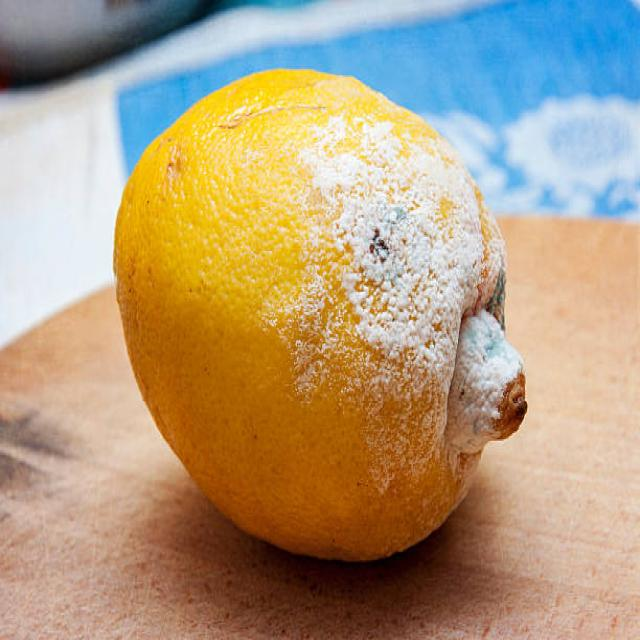Rotten: (110, 68, 525, 562)
